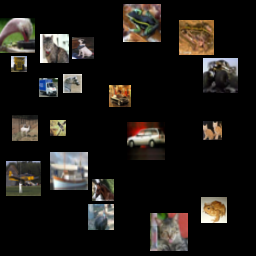airplane: (6, 161, 41, 196)
automobile: (127, 122, 165, 160), (109, 85, 131, 107)
bird: (0, 18, 35, 53), (88, 204, 114, 230)
cat: (150, 213, 188, 251), (40, 34, 69, 63), (203, 121, 222, 140)
deer: (12, 115, 38, 141), (50, 120, 66, 136)
dog: (72, 37, 94, 59)
frog: (123, 4, 161, 42), (179, 20, 214, 55), (201, 197, 227, 223)
ship: (50, 152, 88, 190)
